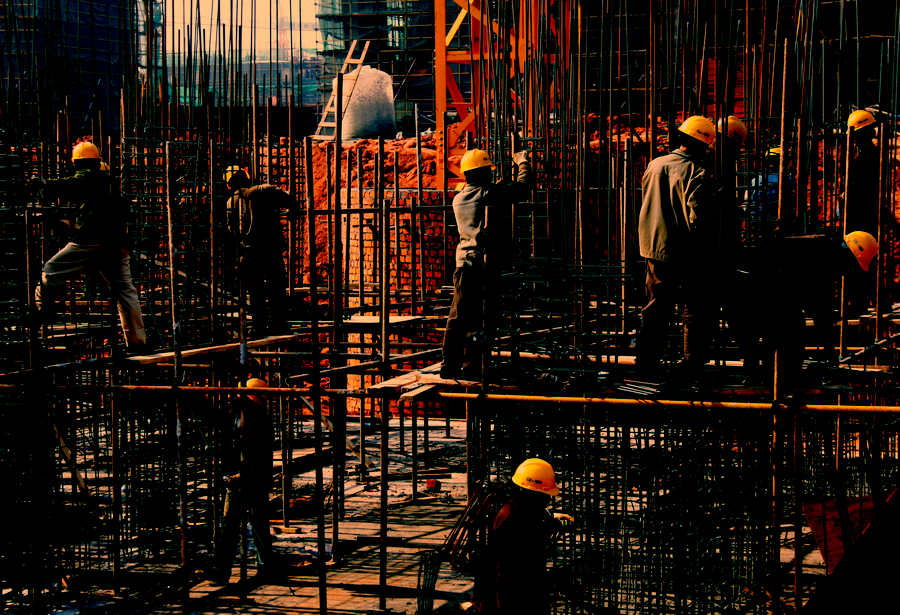safetyhat: (612, 91, 724, 323), (429, 134, 528, 372), (742, 209, 881, 365), (477, 449, 588, 615)
